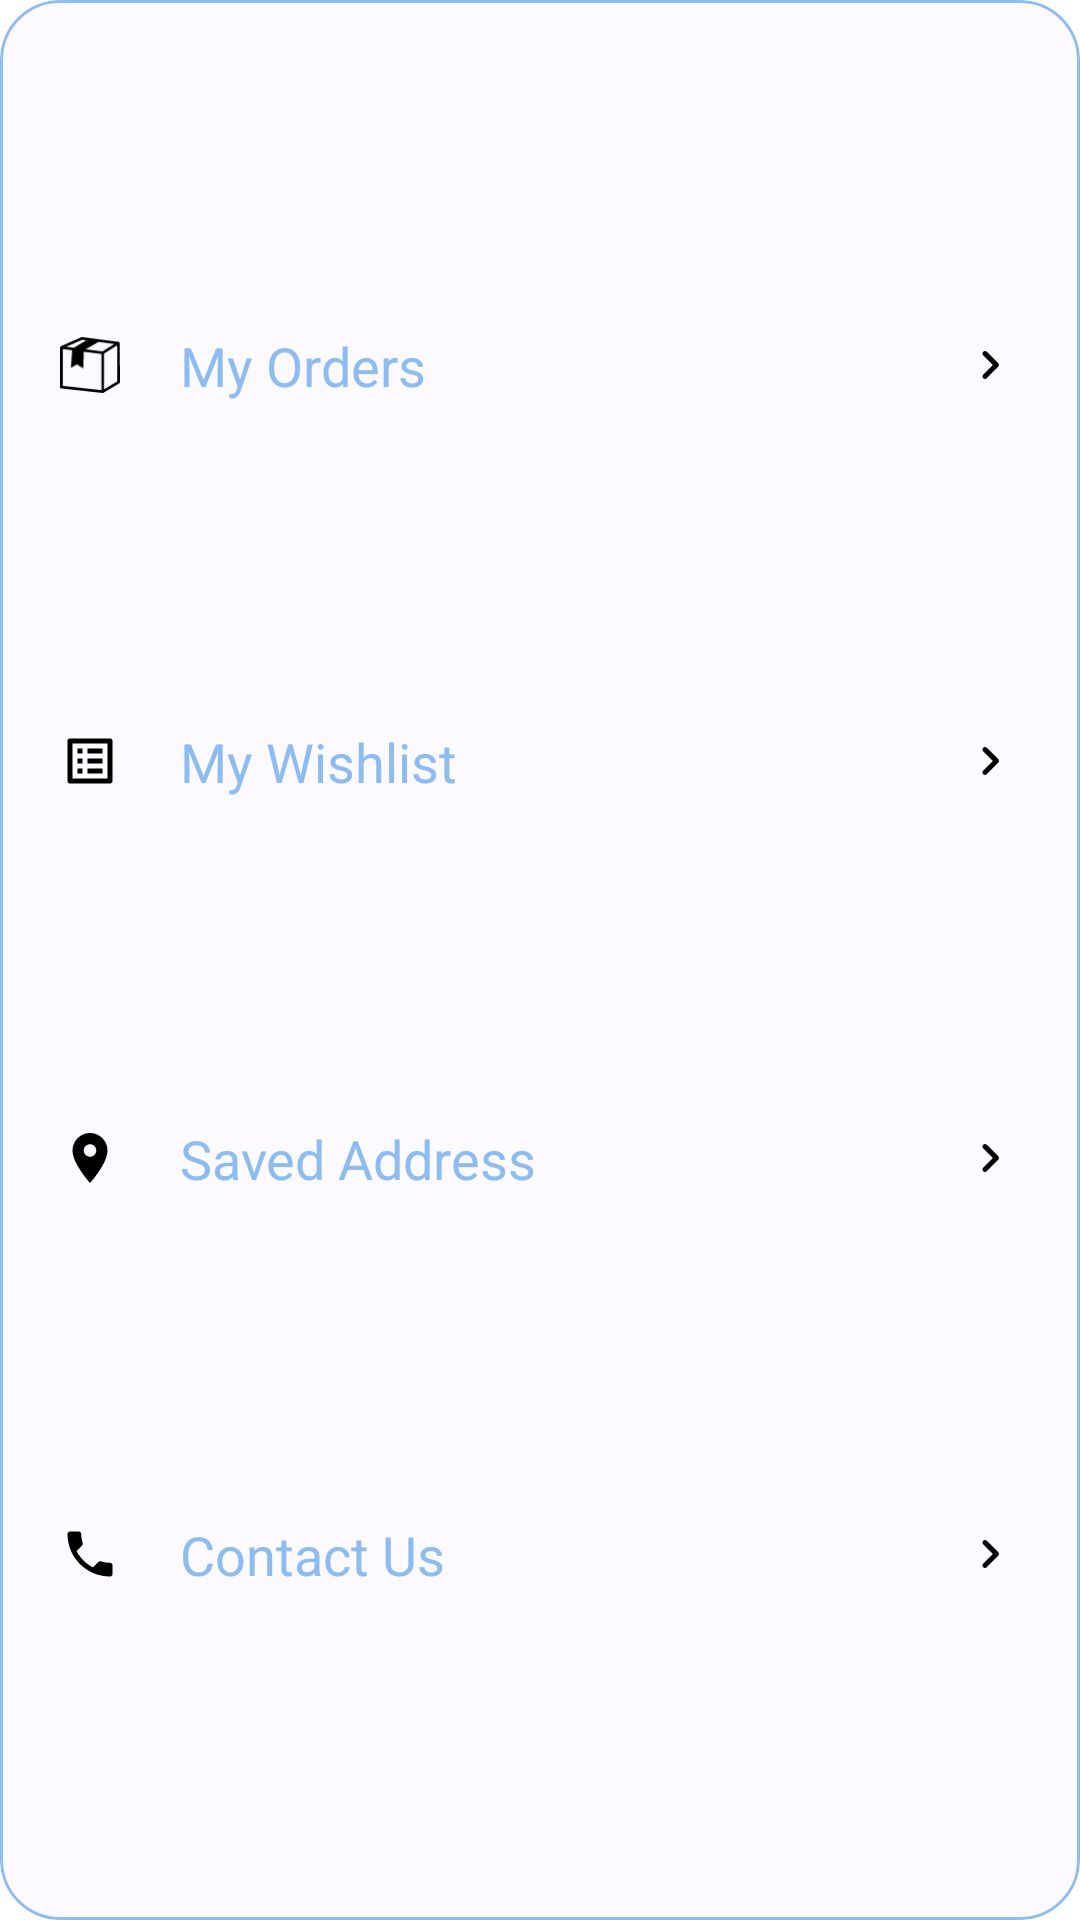

Named icons in this screenshot (1080x1920) and their bounding boxes, (x1, y1, x2, y2):
right: (982, 351, 999, 379), (982, 747, 999, 775), (982, 1144, 999, 1172), (982, 1540, 999, 1568)
